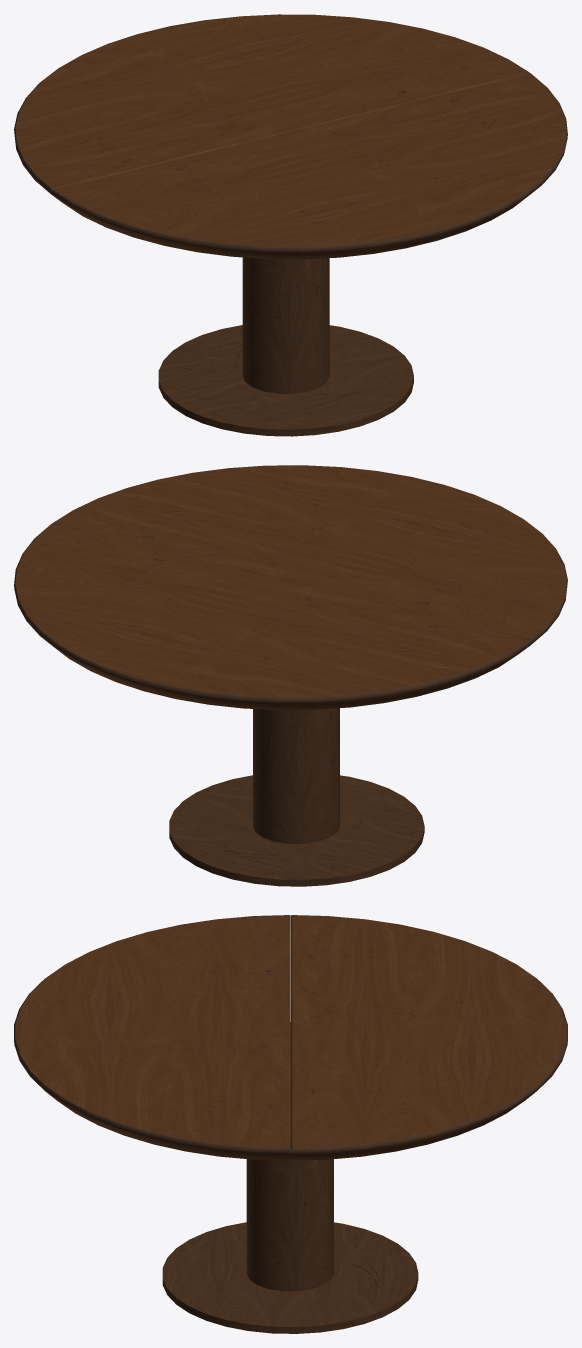
The model's file is SM_Table_A1.fbx.
The picture shows the model from 3 angles, top to bottom: view 1: azimuth 30°, elevation 25°; view 2: azimuth 150°, elevation 25°; view 3: azimuth 270°, elevation 25°; orthographic projection.
Visible parts, largest first — view 1: SM_Table_A1; view 2: SM_Table_A1; view 3: SM_Table_A1.
Part boxes in pixels (<box>): SM_Table_A1: <box>14,14,567,436</box>; SM_Table_A1: <box>14,465,567,886</box>; SM_Table_A1: <box>14,915,567,1333</box>.
Size of the model in its own units: 136 by 136 by 67.85.
Materials: 1 (1 with a texture image).
